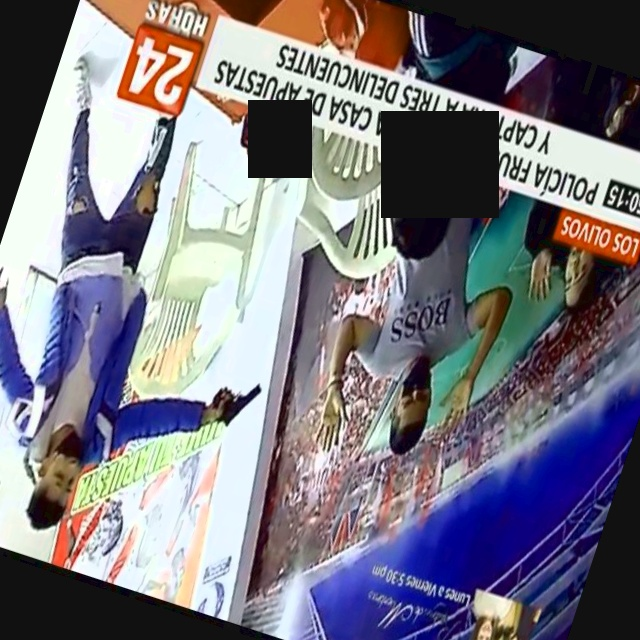gun: (196, 356, 270, 453)
